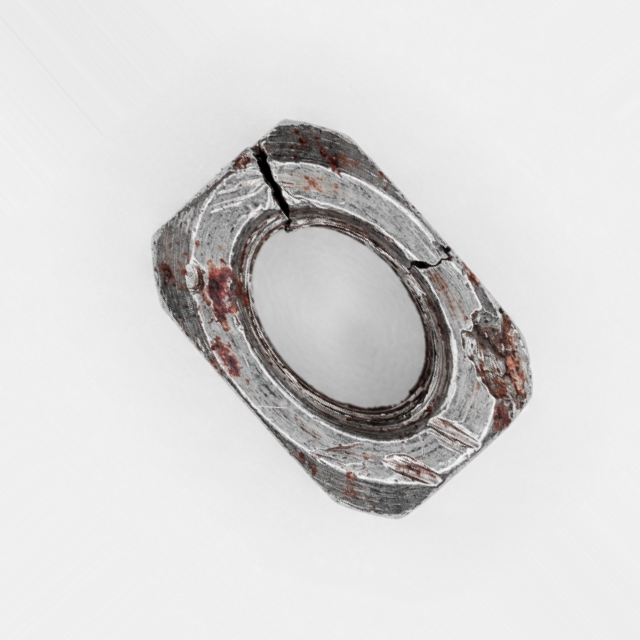defect: (457, 298, 545, 422), (247, 133, 297, 235), (186, 256, 249, 331), (369, 453, 462, 495), (415, 415, 495, 457), (311, 433, 377, 483), (399, 237, 476, 277)
